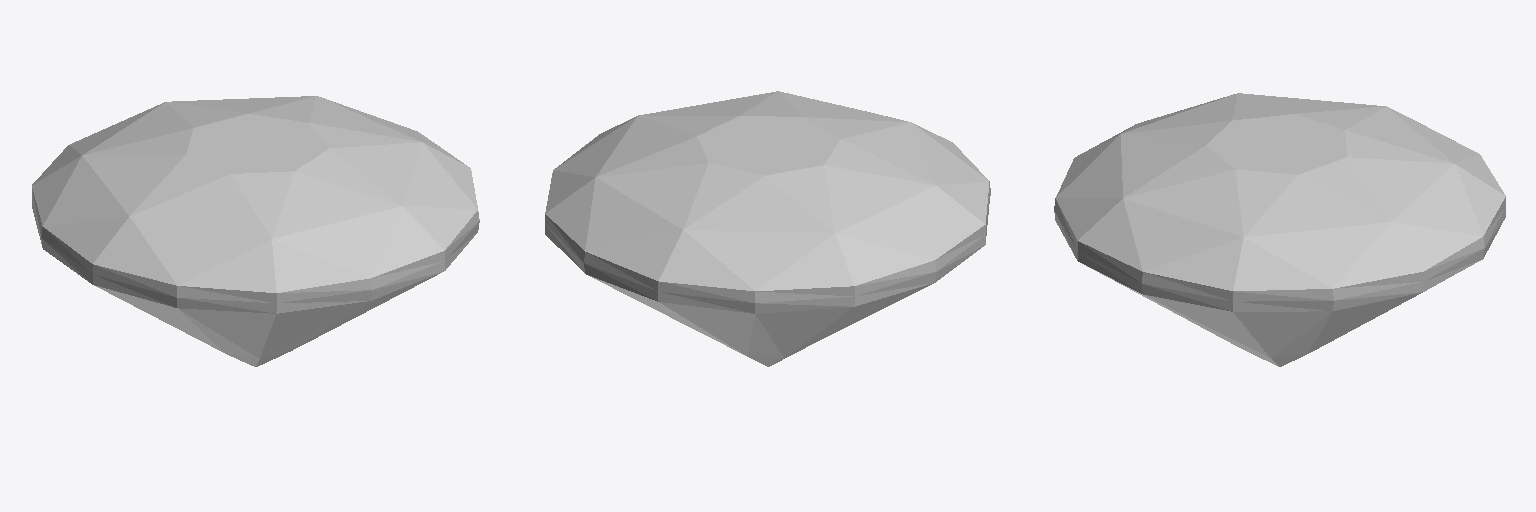
File: diamond.obj
3 views of the same model, side by side, from view 1: azimuth 30°, elevation 25°; view 2: azimuth 150°, elevation 25°; view 3: azimuth 270°, elevation 25° (orthographic).
Visible parts, largest first — view 1: Diamond; view 2: Diamond; view 3: Diamond.
Part boxes in pixels (x1,y1,x2,y2): Diamond: (32, 96, 479, 366); Diamond: (545, 91, 990, 366); Diamond: (1054, 93, 1505, 366).
Bounding box in the file's own units: 0.7016 × 0.39 × 0.7169.